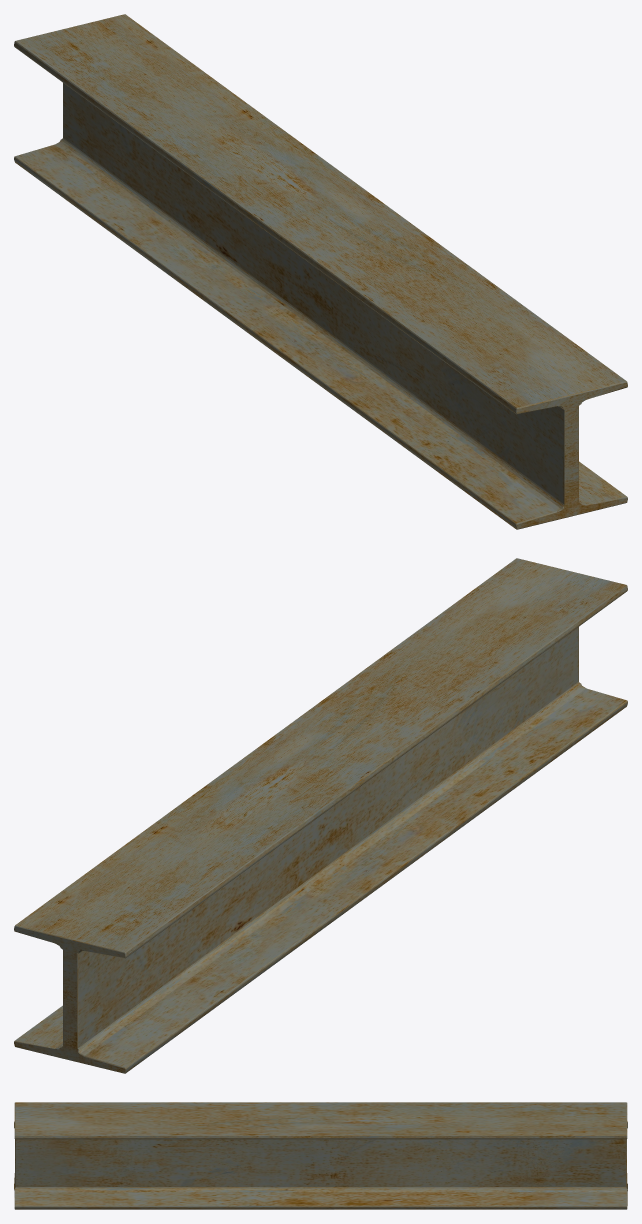
The model's file is beam-optimized.glb.
3 renders of one model, top to bottom at view 1: azimuth 30°, elevation 25°; view 2: azimuth 150°, elevation 25°; view 3: azimuth 270°, elevation 25°, orthographic. The views are drawn at different scales.
Parts seen in each view (by area): view 1: Steelbeam; view 2: Steelbeam; view 3: Steelbeam.
Boxes of the visible parts, x1,y1,x2,y2 form: Steelbeam: [14, 14, 627, 529]; Steelbeam: [14, 558, 627, 1073]; Steelbeam: [14, 1102, 627, 1209].
Bounding box in the file's own units: 0.644 × 0.669 × 5.
Materials: 1 (1 with a texture image).
